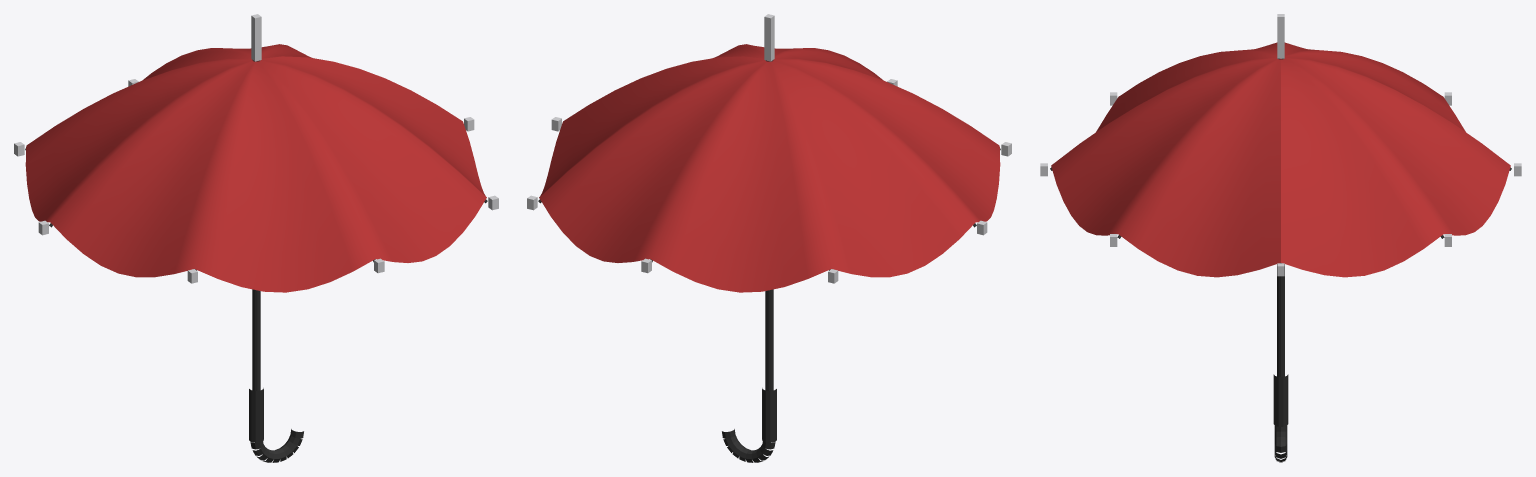
The model's file is vermelho.gltf.
The picture shows the model from 3 angles, left to right: view 1: azimuth 30°, elevation 25°; view 2: azimuth 150°, elevation 25°; view 3: azimuth 270°, elevation 25°; orthographic projection. The views are drawn at different scales.
Parts seen in each view (by area): view 1: carro; view 2: carro; view 3: carro.
Boxes of the visible parts, <box> form: carro: <box>14,14,498,462</box>; carro: <box>527,14,1011,462</box>; carro: <box>1040,14,1521,462</box>.
Bounding box in the file's own units: 1.05 × 1.04 × 1.05.
